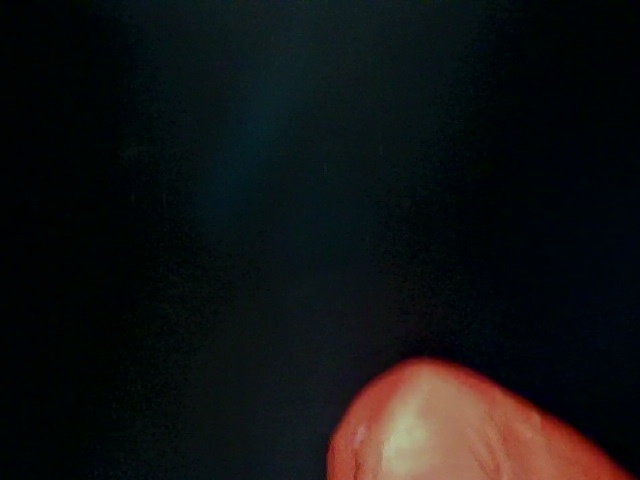YHLJ: (364, 414, 483, 471)
